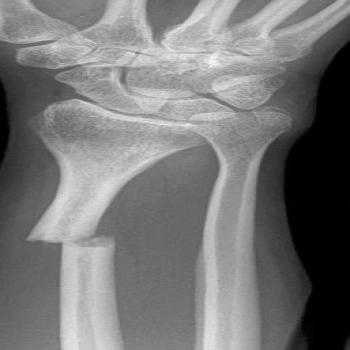Fracture: (12, 229, 143, 255)
